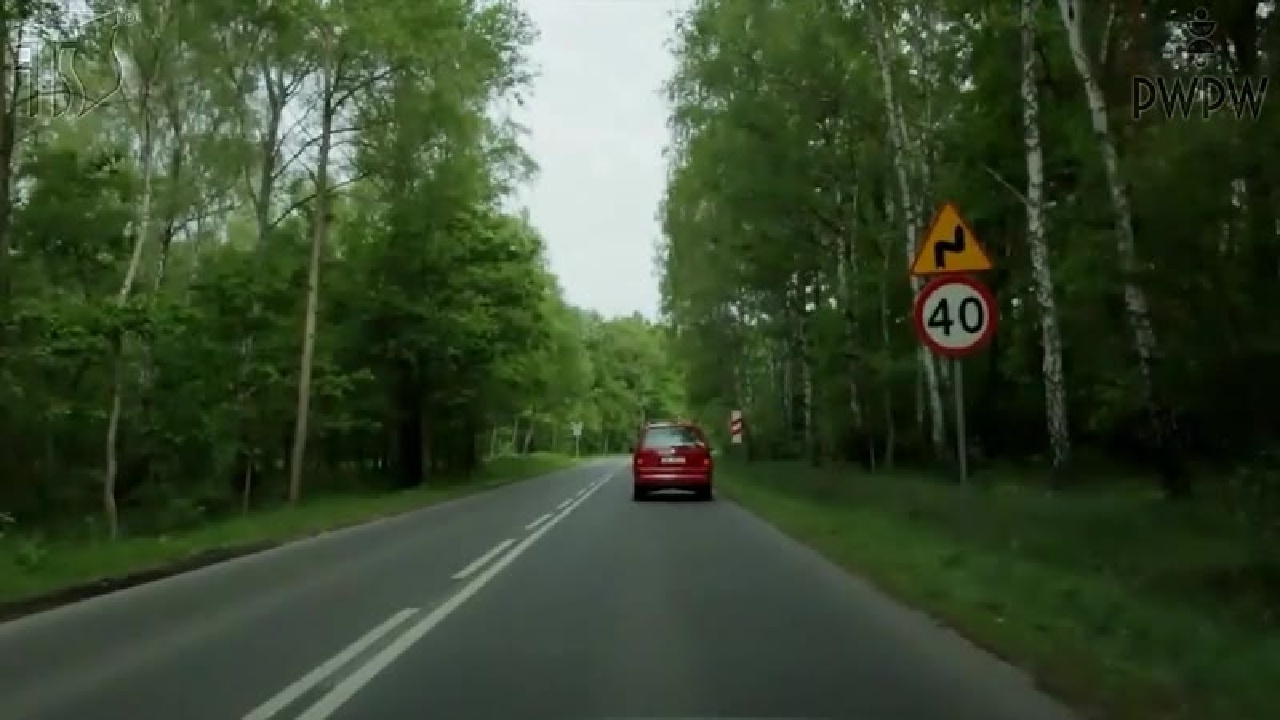A3: (910, 203, 996, 273)
B33_40: (915, 275, 999, 356)
